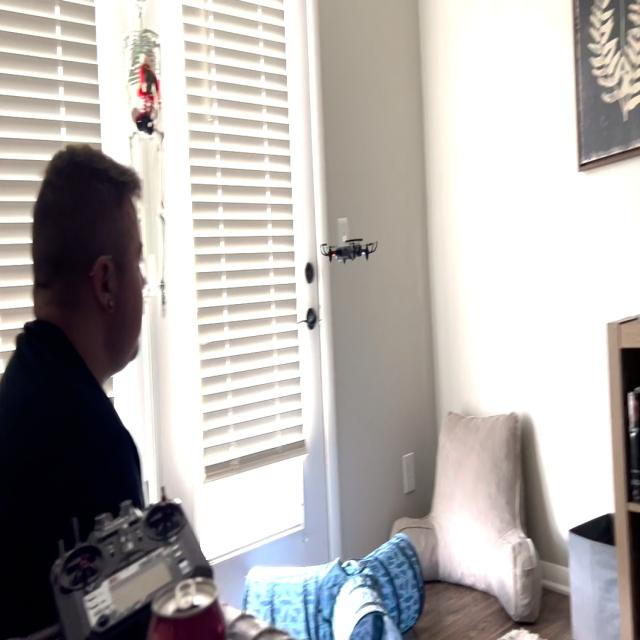drone: (315, 225, 385, 272)
